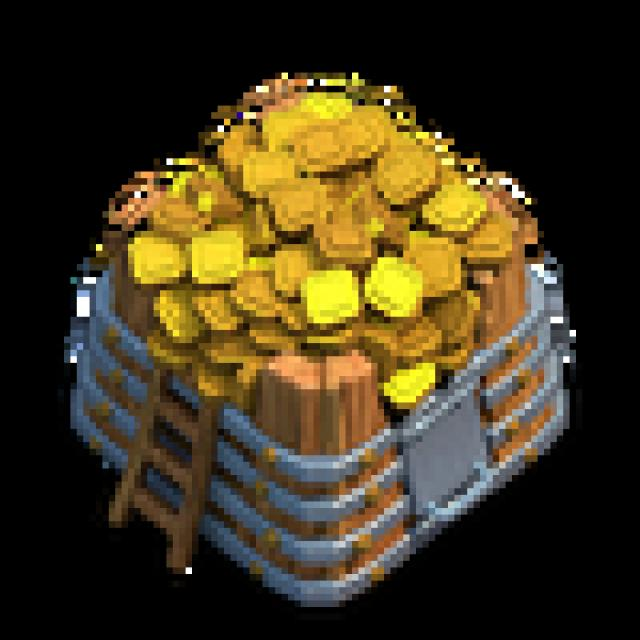gold_storage: (51, 53, 589, 640)
